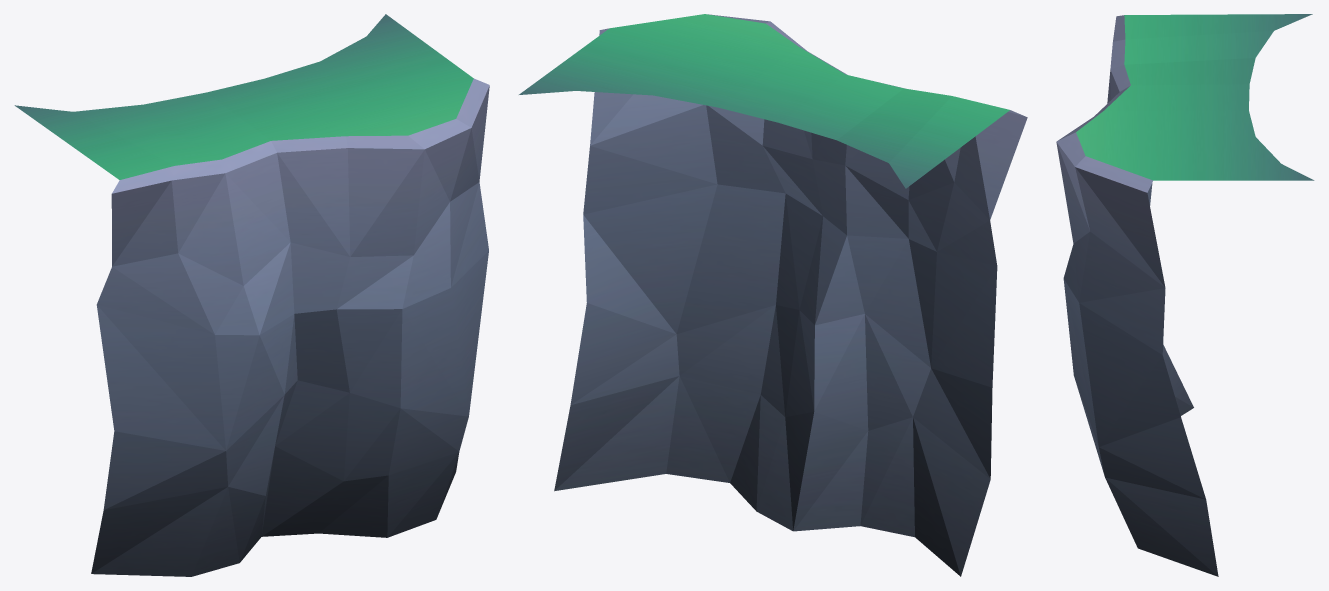
File: Cliff_Wall_3.fbx
3 views of the same model, side by side, from view 1: azimuth 30°, elevation 25°; view 2: azimuth 150°, elevation 25°; view 3: azimuth 270°, elevation 25° (orthographic). The views are drawn at different scales.
Visible parts, largest first — view 1: Cliff Wall; view 2: Cliff Wall; view 3: Cliff Wall.
Boxes of the visible parts, bbox=[...] form: Cliff Wall: bbox=[14, 14, 489, 576]; Cliff Wall: bbox=[519, 14, 1027, 576]; Cliff Wall: bbox=[1056, 14, 1314, 576].
Bounding box in the file's own units: 972 × 979 × 590.
